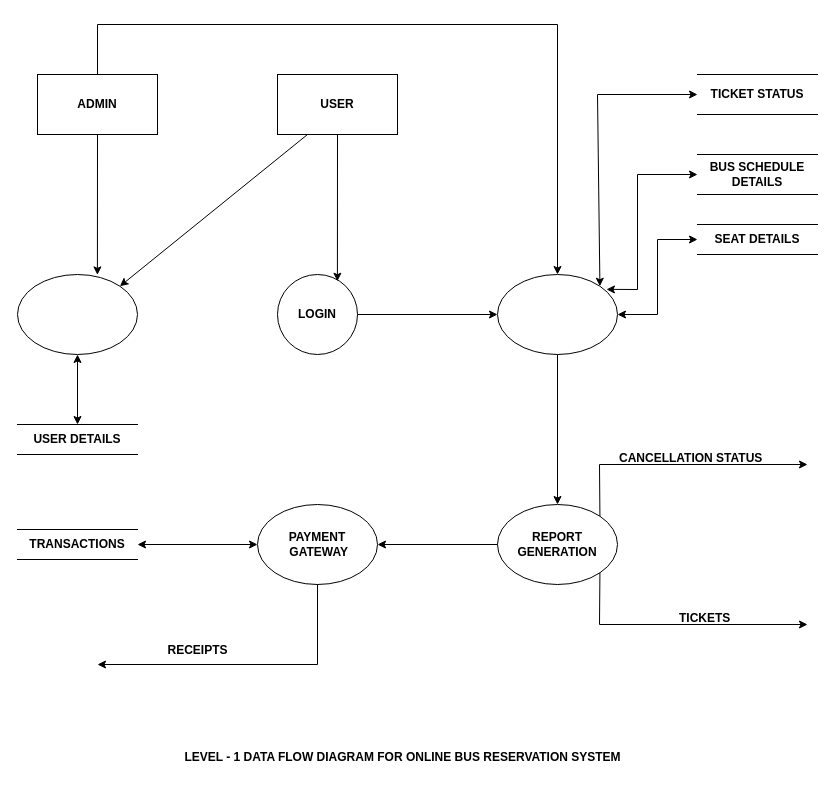
The diagram is 835 pixels wide and 802 high, and some of its shapes have lost their labels. Each missing label, with the centre of its shape:
"ACCOUNT MANAGEMENT" goes at (x=77, y=314).
"AVAILABILITY RESERVATION CANCELLATION TICKET STATUS" goes at (x=557, y=314).
